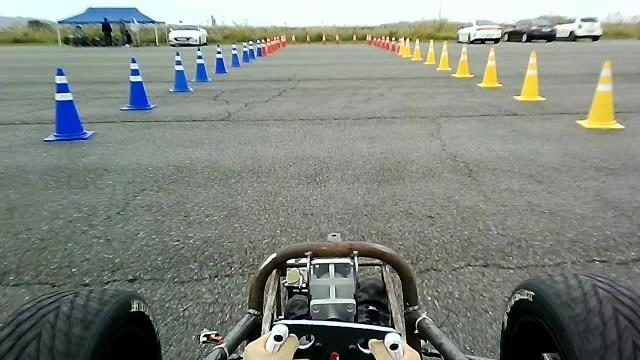blue cone: (42, 66, 95, 141), (119, 56, 156, 110), (168, 50, 193, 92), (189, 46, 211, 82), (211, 44, 228, 74), (229, 41, 241, 67), (247, 40, 256, 60), (241, 42, 249, 62)
yellow cone: (576, 59, 624, 129), (513, 50, 546, 101), (476, 46, 502, 87), (451, 43, 474, 77), (436, 40, 451, 70), (423, 38, 435, 64), (411, 37, 423, 61)
